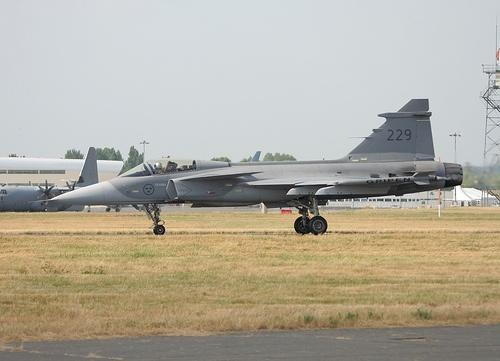aeroplane: (43, 97, 465, 236), (1, 146, 100, 216)
